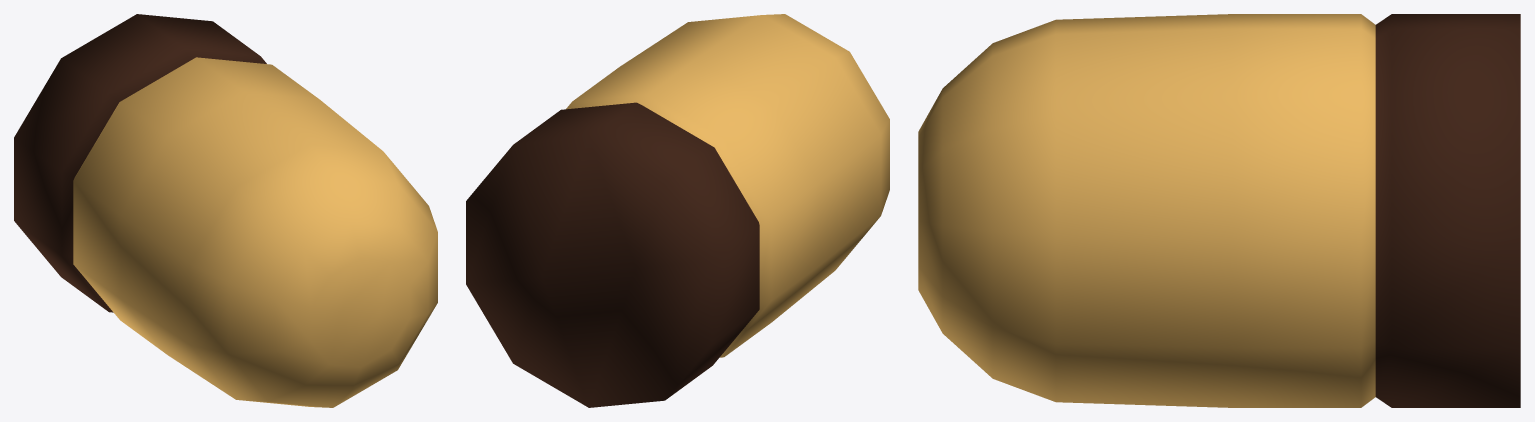
Rendered from CS_TypeS.fbx.
The picture shows the model from 3 angles, left to right: view 1: azimuth 30°, elevation 25°; view 2: azimuth 150°, elevation 25°; view 3: azimuth 270°, elevation 25°; orthographic projection. The views are drawn at different scales.
Parts seen in each view (by area): view 1: CS_TypeS; view 2: CS_TypeS; view 3: CS_TypeS.
Part boxes in pixels (box(x1,y1,x2,y2)): CS_TypeS: box(14, 14, 437, 407); CS_TypeS: box(466, 14, 889, 407); CS_TypeS: box(918, 14, 1520, 407).
Bounding box in the file's own units: 2.03 × 2.13 × 3.2.
